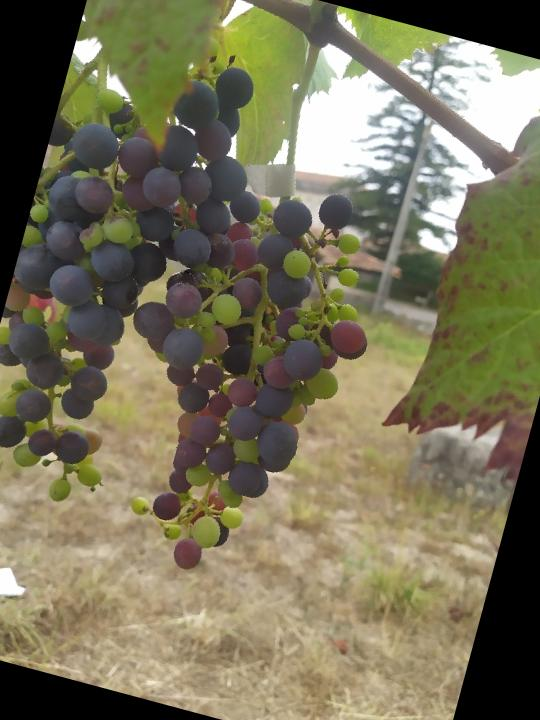grape: (70, 151, 407, 605), (0, 14, 295, 532)
